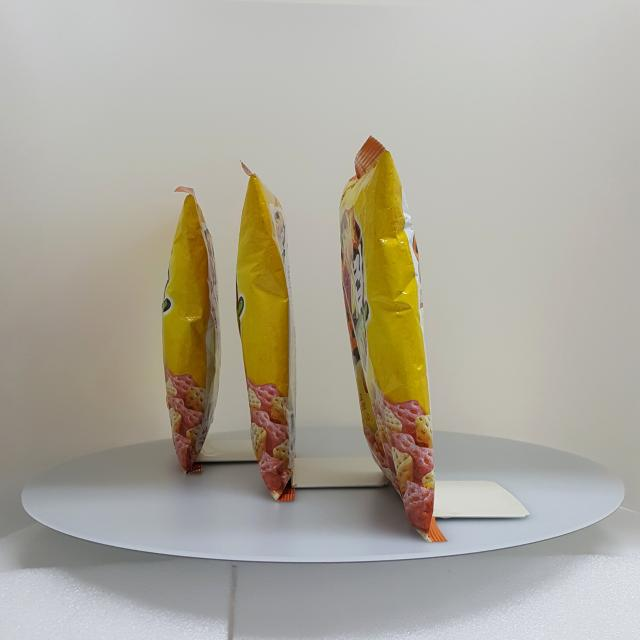-83G: (341, 137, 448, 544), (236, 161, 298, 503), (164, 187, 221, 474)
